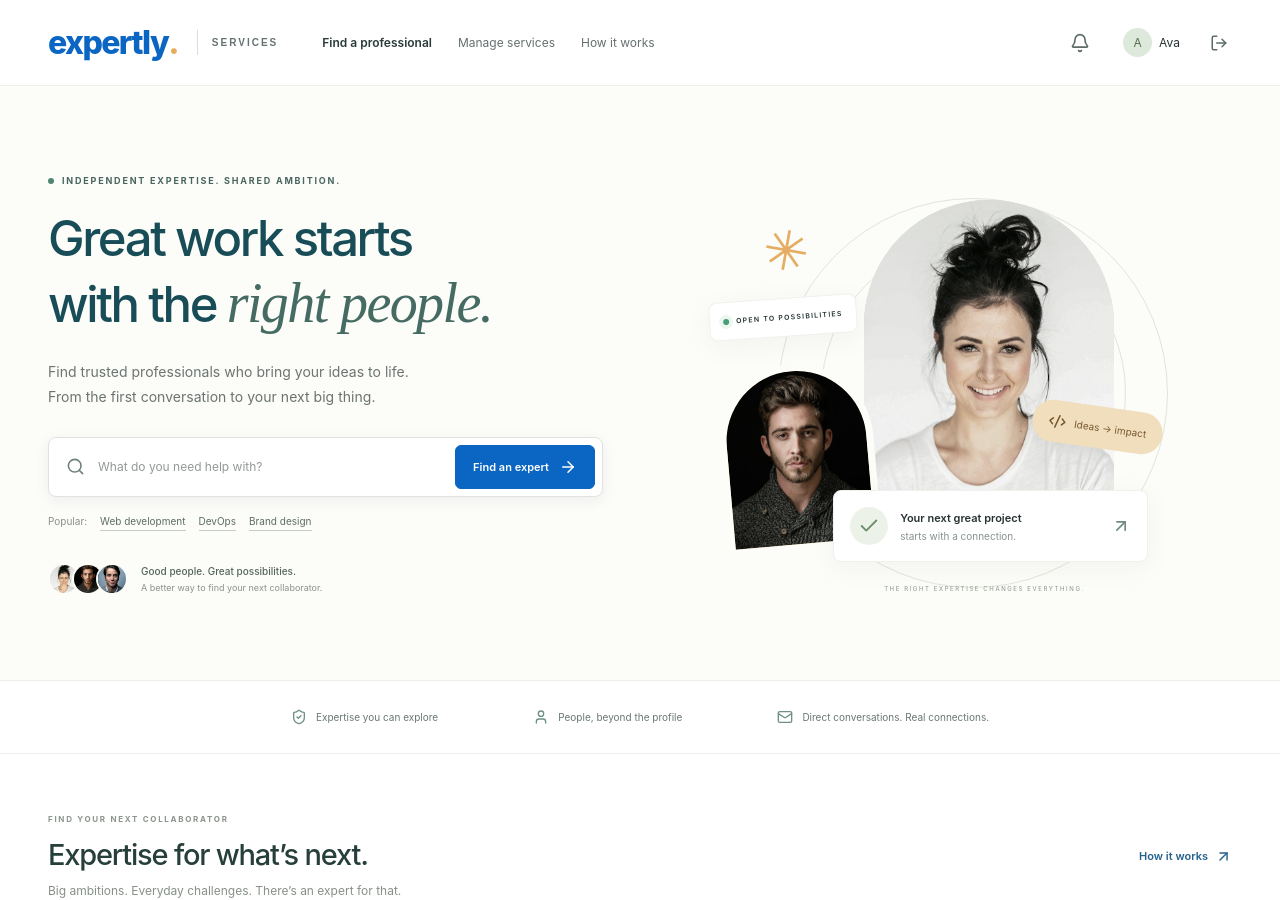
Scenario: refreshes an initially empty inbox when opened after a new inquiry arrives
Click the button named "Notifications" at (1080, 42), box [1063,26,1097,60]
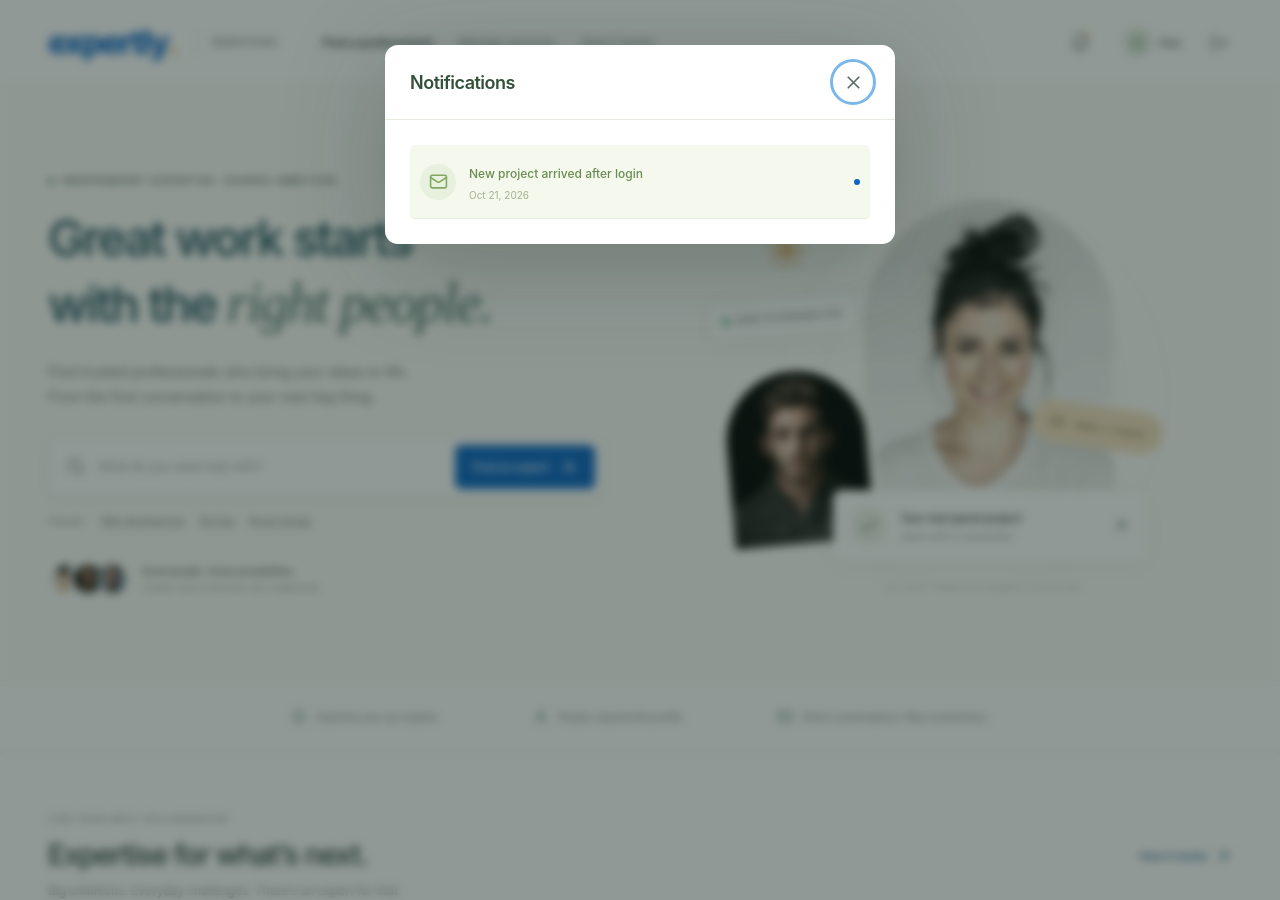
Now the button "New project arrived after login Oct 21, 2026" is shown, box [410,145,870,219]
